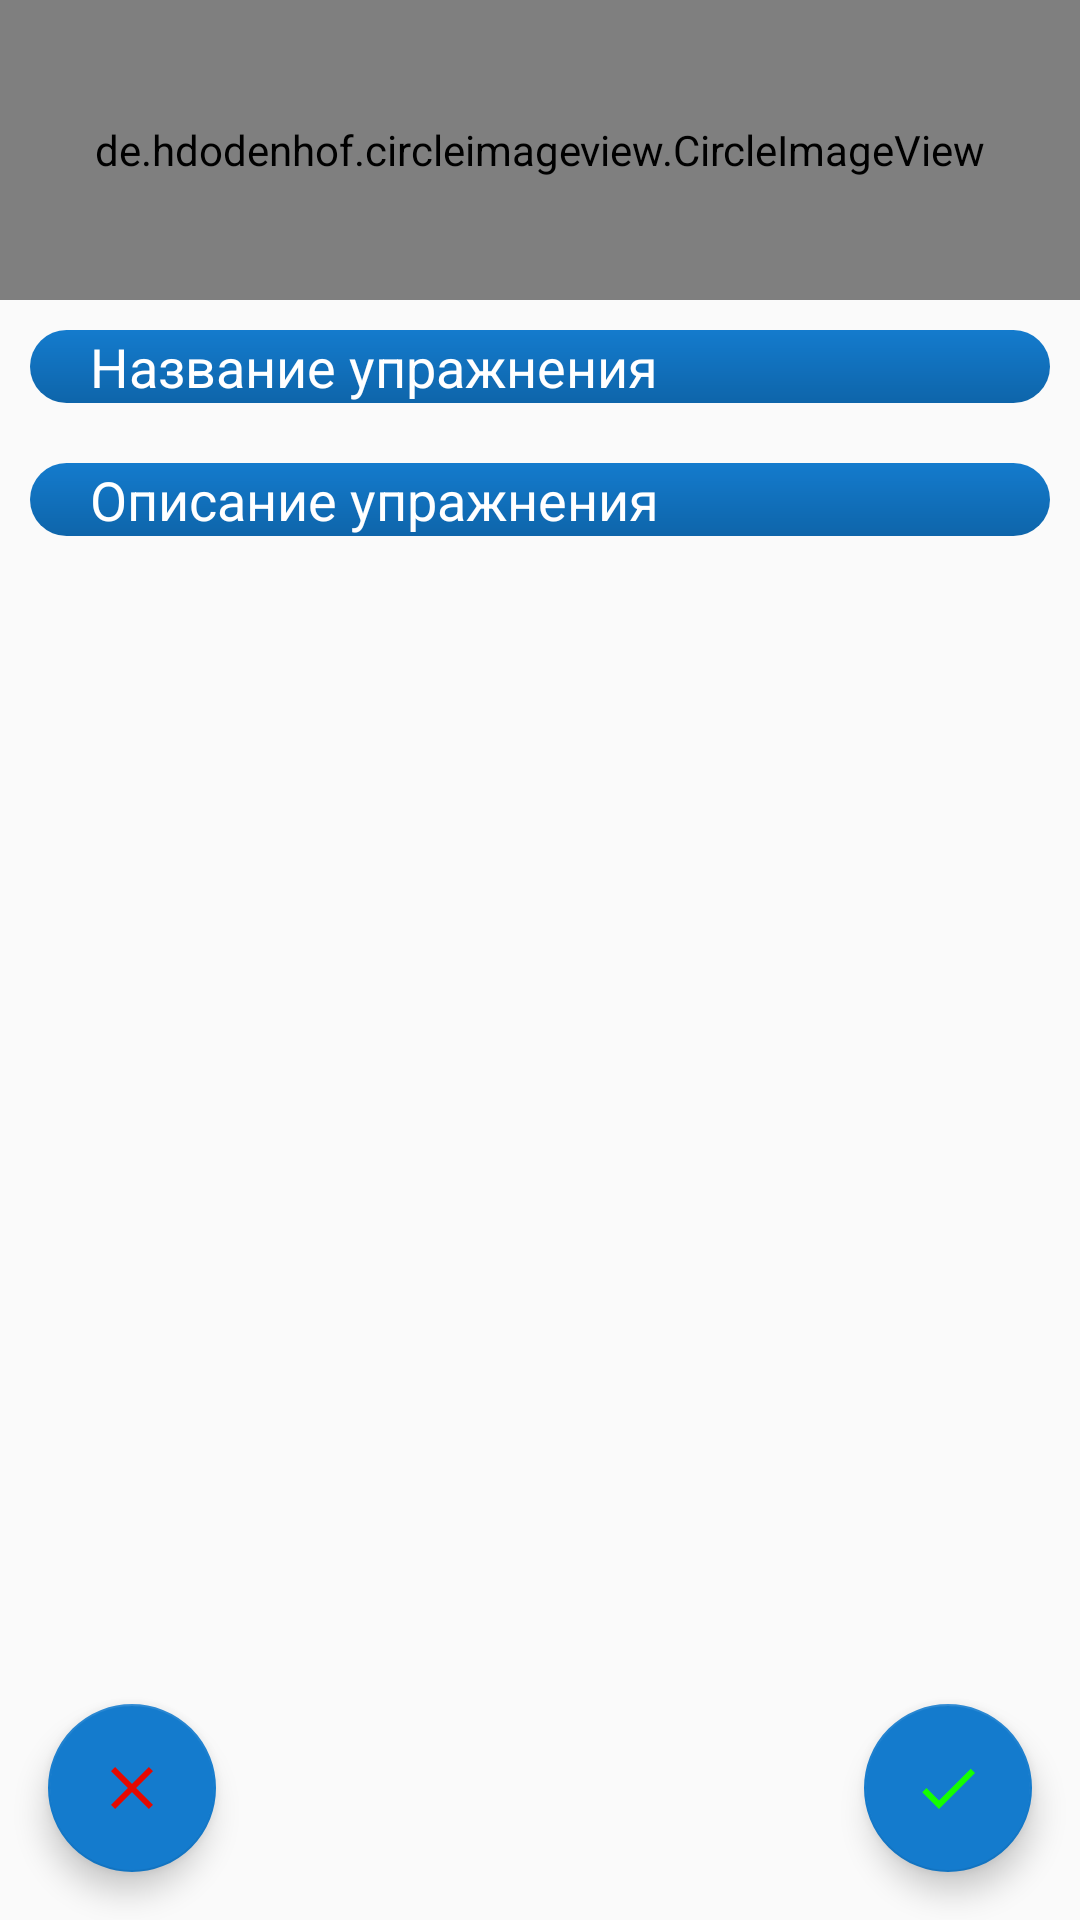

Where to tap for icons on this 1080 x 1920 app screen, as point (x, y):
check: point (948, 1788)
close: point (132, 1788)
